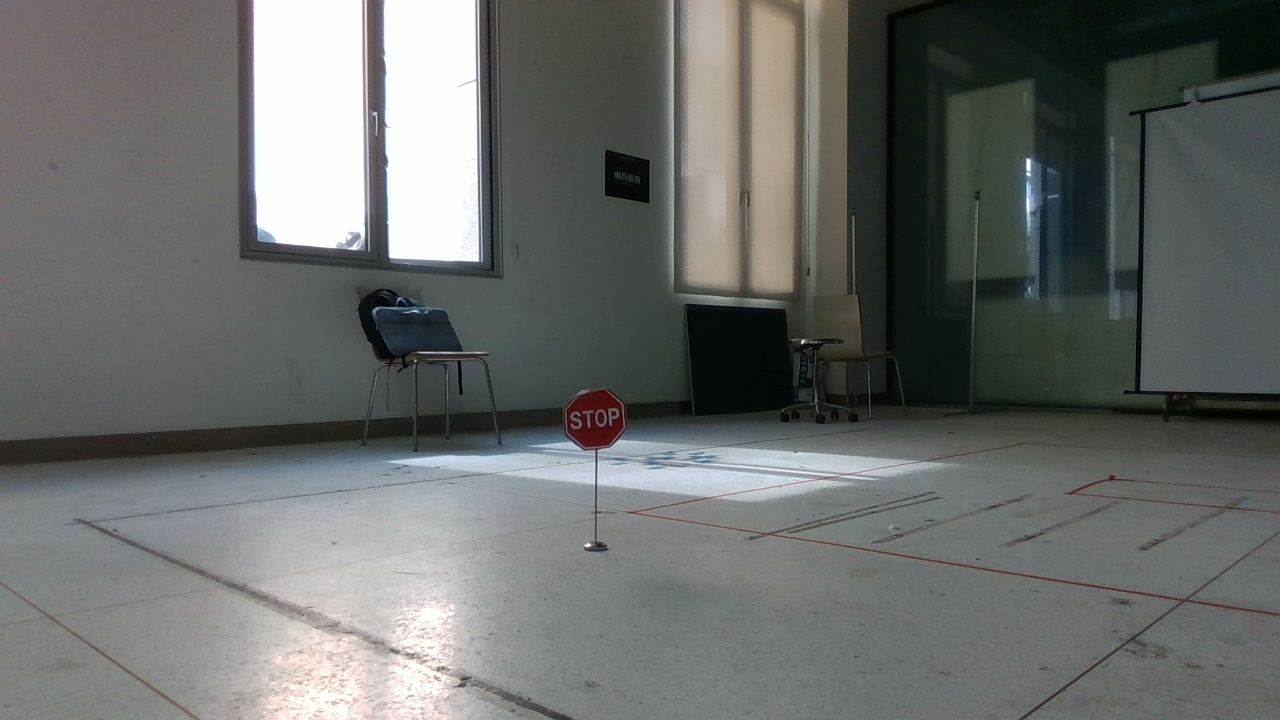stop_sign: (557, 385, 630, 453)
